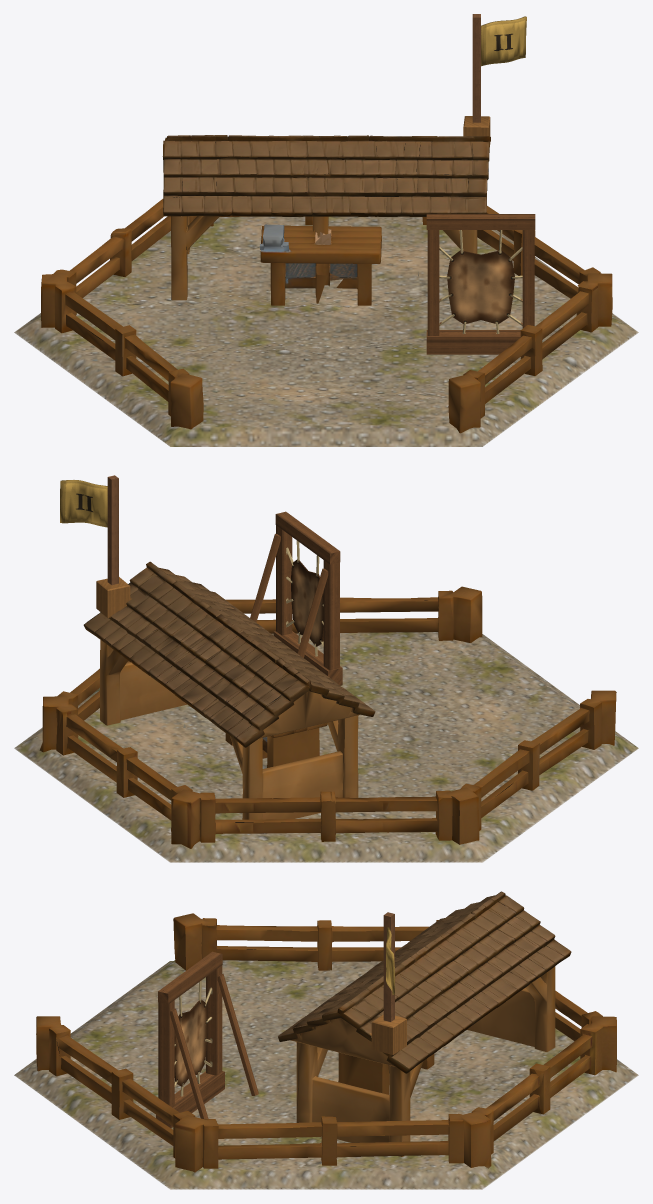
File: workshop-2.glb
3 renders of one model, top to bottom at view 1: azimuth 30°, elevation 25°; view 2: azimuth 150°, elevation 25°; view 3: azimuth 270°, elevation 25°, orthographic.
Visible parts, largest first — view 1: ground, architecture, tier-banner; view 2: architecture, ground, tier-banner; view 3: architecture, ground, tier-banner.
Part boxes in pixels (box(x1,y1,x2,y2)): ground: box(14, 216, 638, 446); architecture: box(41, 14, 612, 433); tier-banner: box(481, 16, 526, 66); architecture: box(39, 475, 616, 848); ground: box(14, 632, 638, 862); tier-banner: box(60, 480, 107, 527); architecture: box(36, 891, 616, 1172); ground: box(14, 960, 638, 1189); tier-banner: box(386, 927, 394, 994).
Size of the model in its own units: 1.59 by 0.81 by 1.84.
3 materials, 3 textured.
